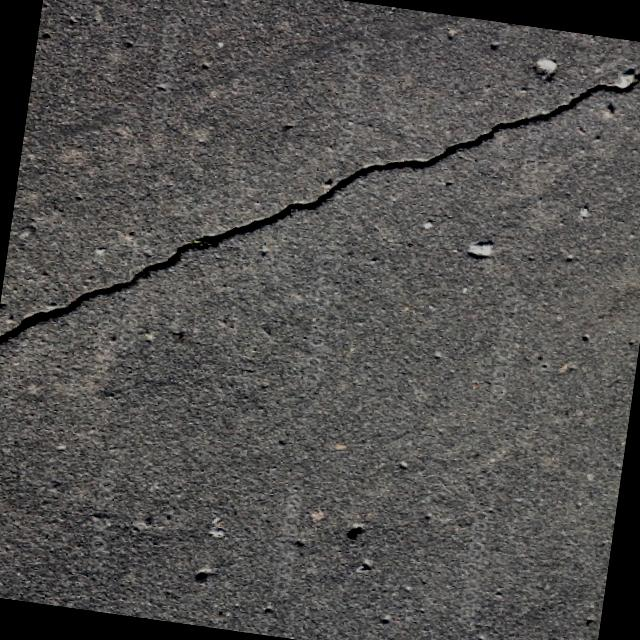crack: (272, 2, 640, 265), (0, 175, 288, 387)
